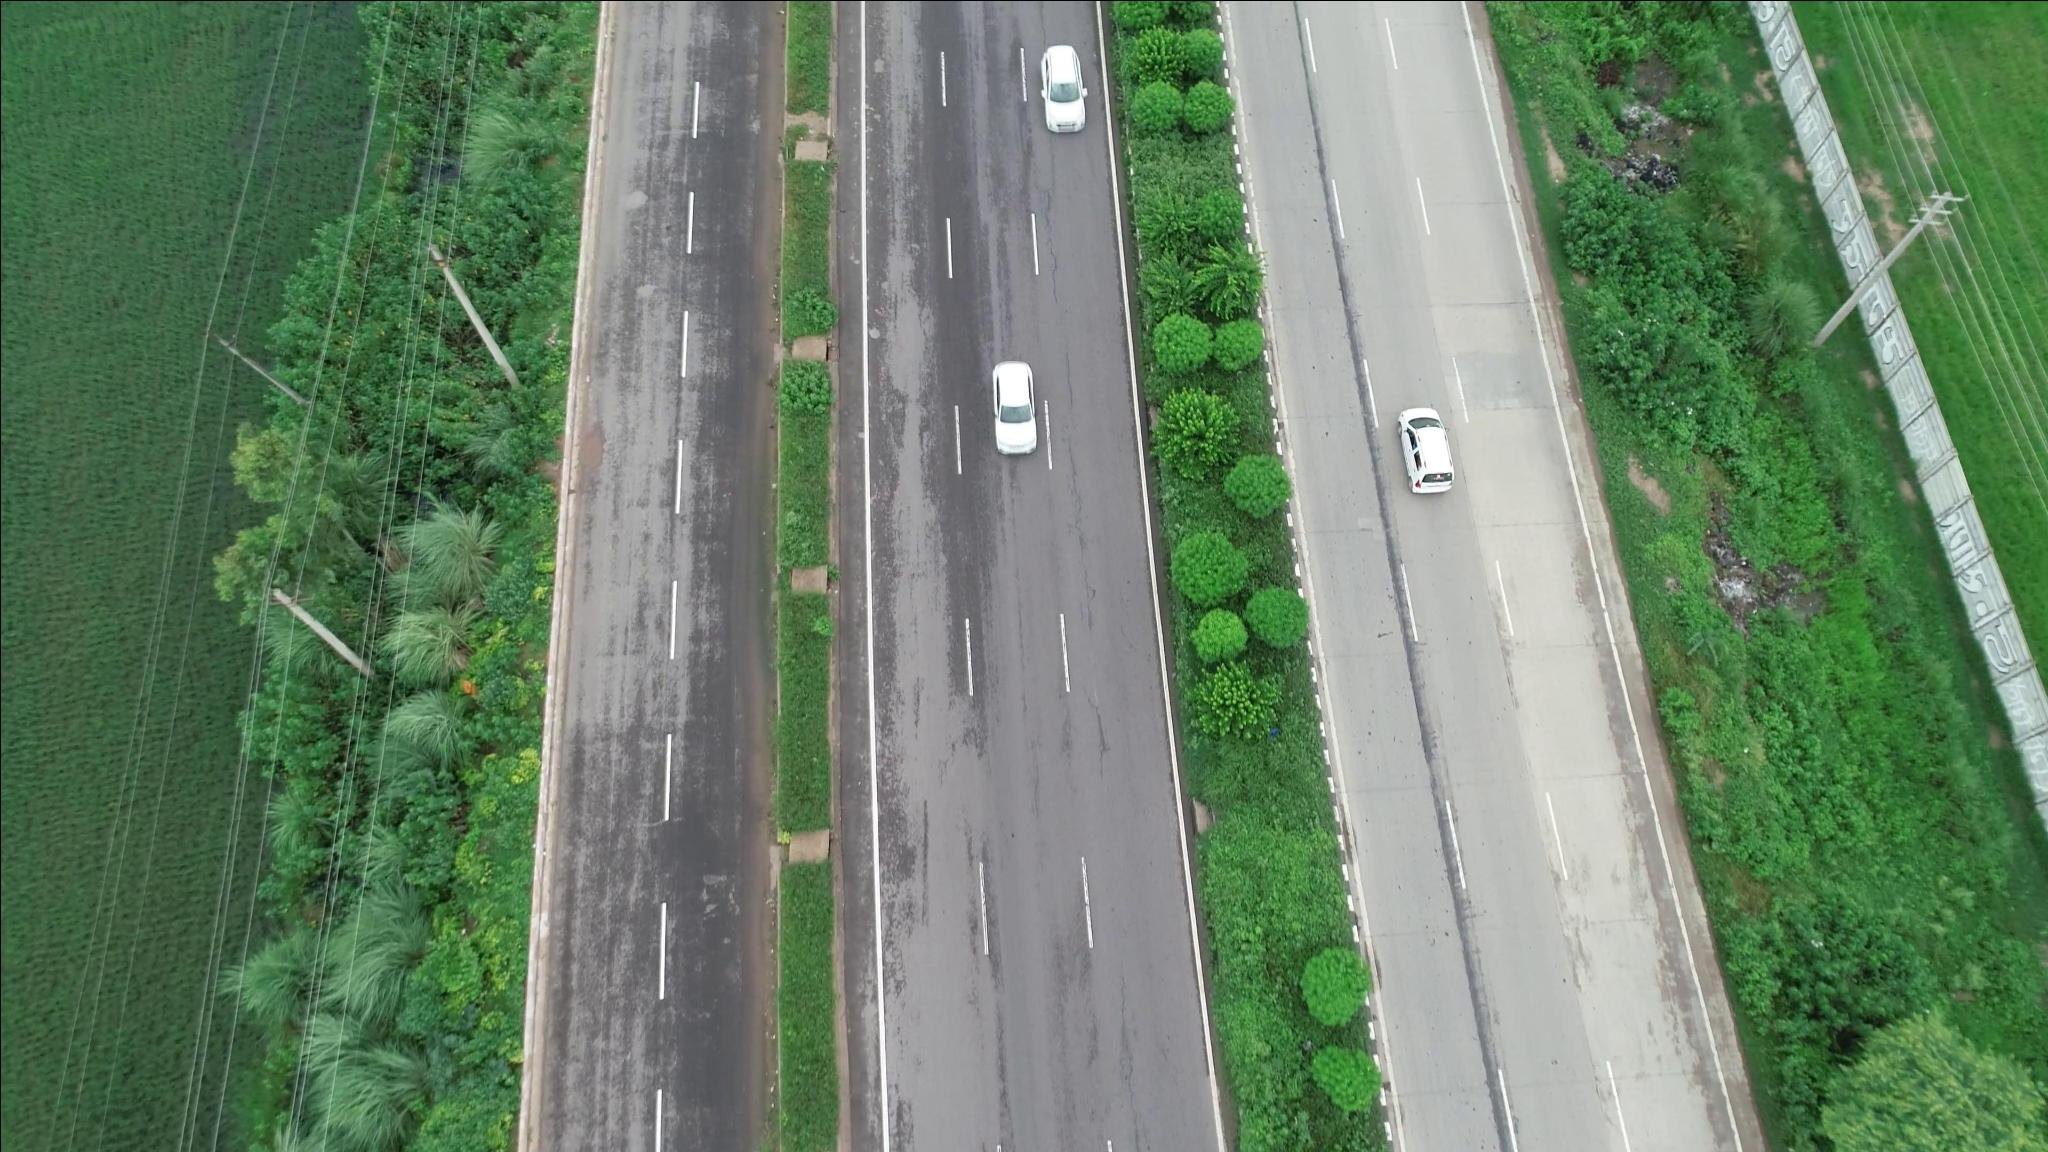Cracks: (1054, 392, 1107, 615)
